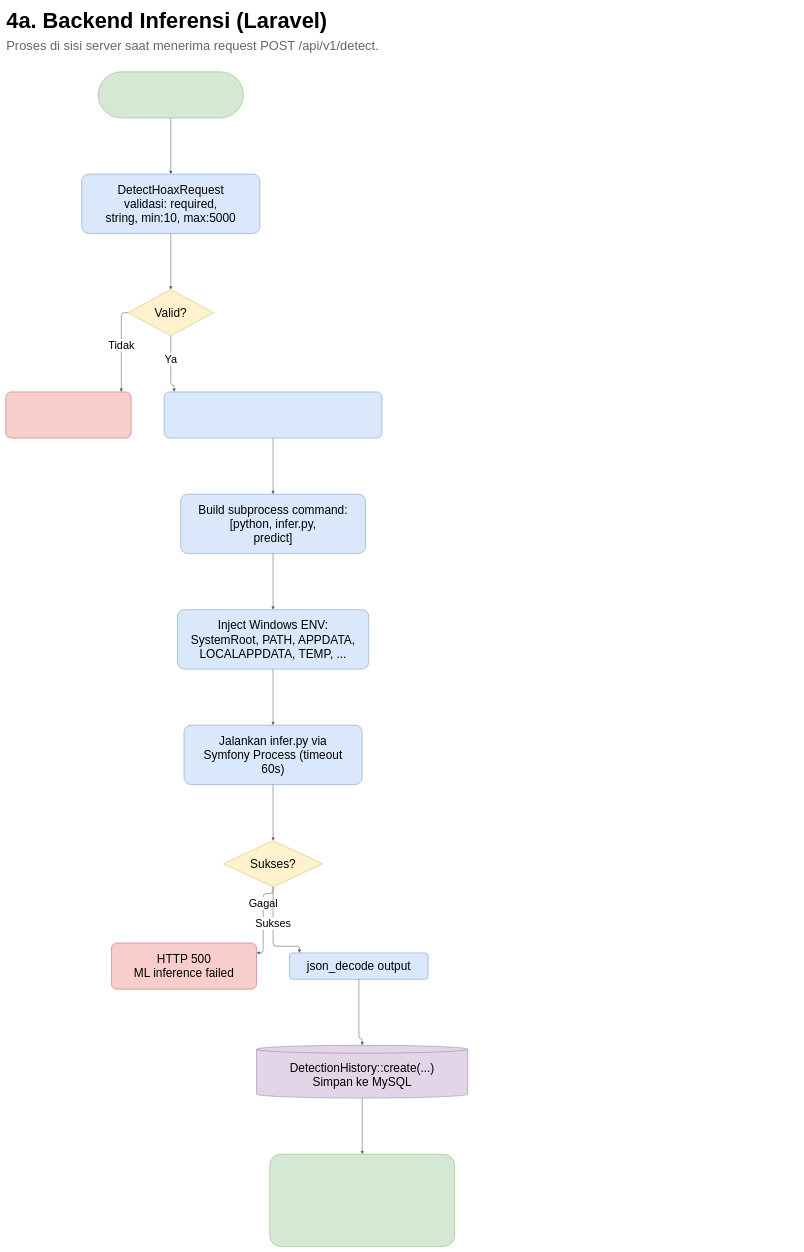
The diagram is 804 pixels wide and 1252 high, and some of its shapes have lost their labels. The shapes that lost their labels are listed below. From the top down, each one's centre as x and y in pixels, then its label:
the point at 170,94: POST /api/v1/detect {text: '...'}
the point at 68,414: HTTP 422 Validation Error
the point at 273,414: HoaxInferenceService::predict( text)
the point at 362,1200: HTTP 201 JSON: id, verdict, probabilities, confidence_label, tokens, XAI words
